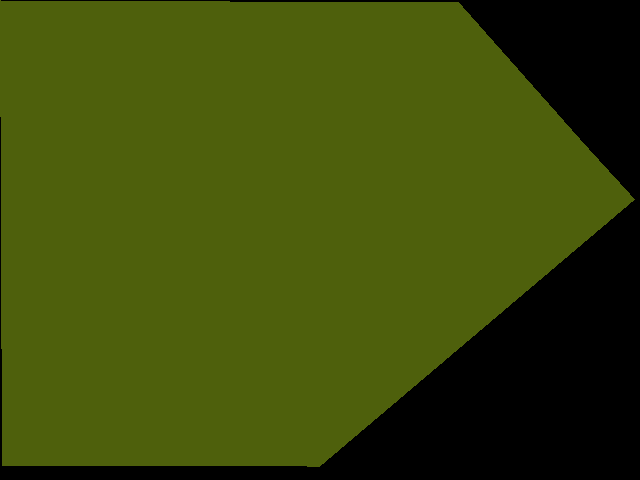Train: (0, 0, 634, 466)
